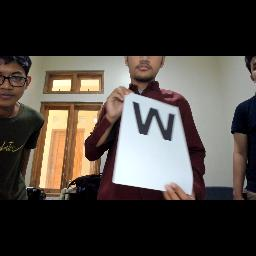w: (130, 98, 182, 146)
